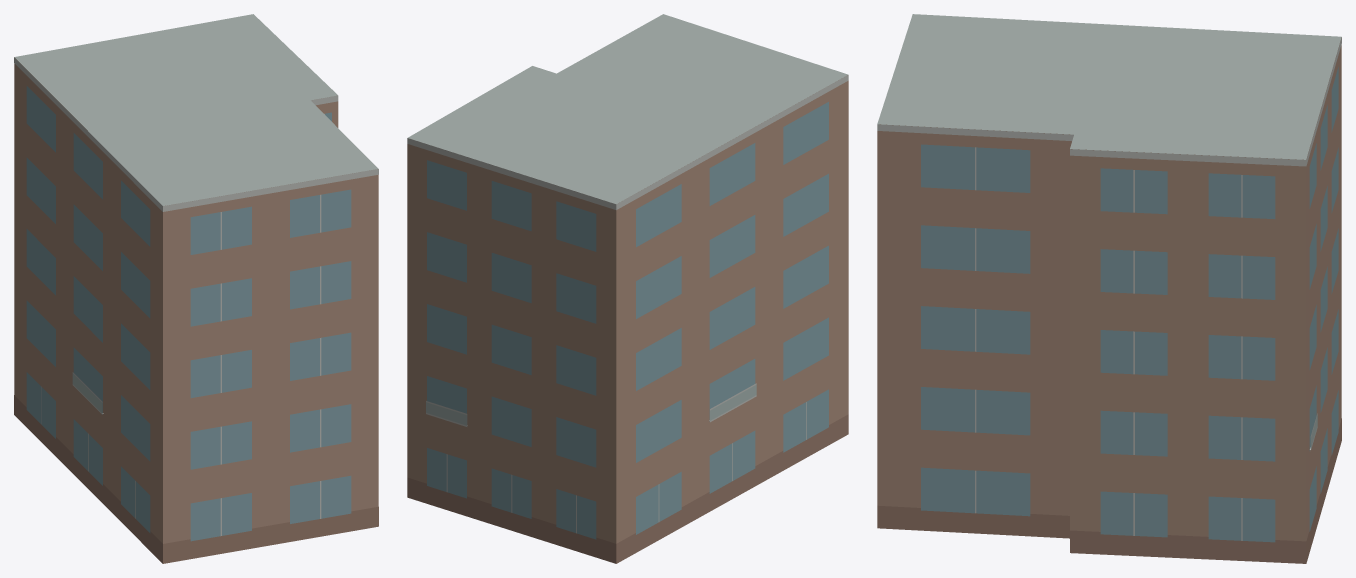
The model's file is survey-upis-32869275.glb.
3 views of the same model, side by side, from view 1: azimuth 30°, elevation 25°; view 2: azimuth 150°, elevation 25°; view 3: azimuth 270°, elevation 25° (orthographic). The views are drawn at different scales.
Visible parts, largest first — view 1: survey-upis-32869275.tmp; view 2: survey-upis-32869275.tmp; view 3: survey-upis-32869275.tmp.
Boxes of the visible parts, x1,y1,x2,y2 form: survey-upis-32869275.tmp: (14, 14, 378, 563); survey-upis-32869275.tmp: (407, 14, 848, 563); survey-upis-32869275.tmp: (877, 14, 1341, 563).
Size of the model in its own units: 11.55 by 14.9 by 15.54.
